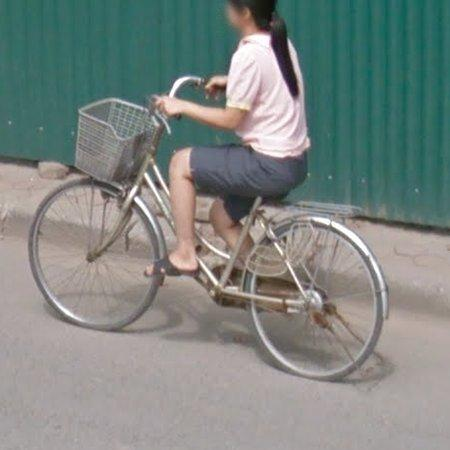bicycles: (197, 198, 389, 382), (28, 98, 174, 330)
